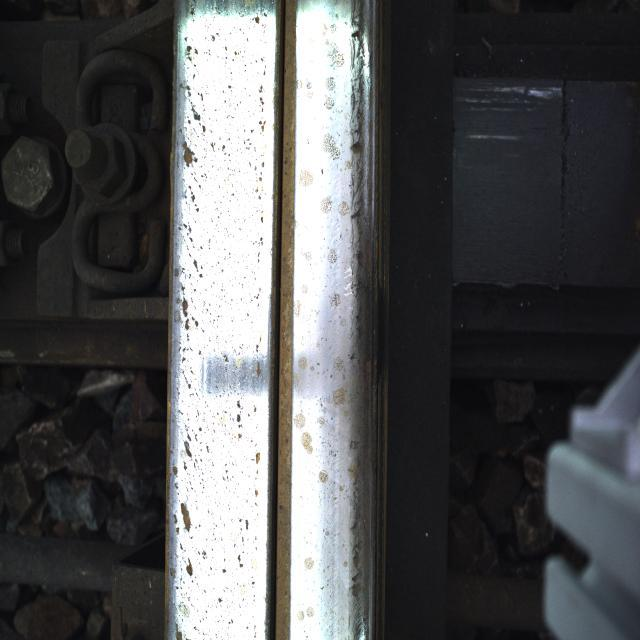scar: (175, 14, 227, 585), (305, 25, 355, 519)
